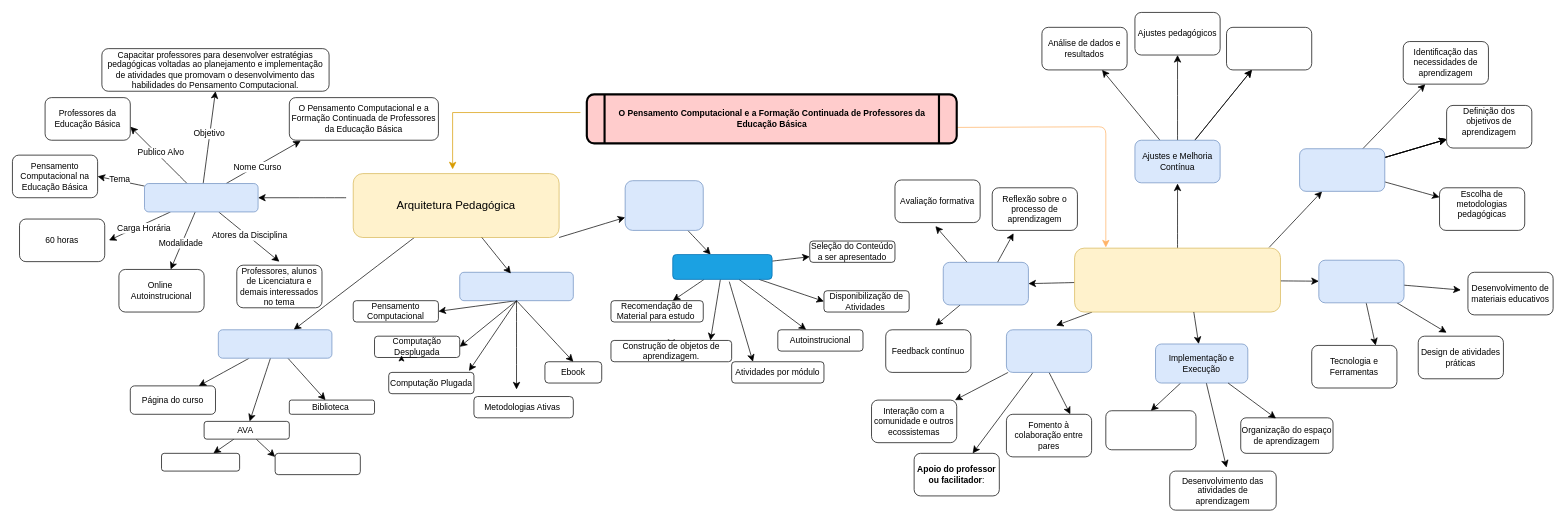
This 1566x523 diagram has some shape labels left out. Each missing label, with the box of its shape:
Aspectos Metodologicos: (624, 180, 703, 230)
Aspectos Organizacionais: (144, 183, 258, 212)
Aspectos Tecnológicos: (218, 329, 332, 358)
Atualização e inovação:: (1226, 27, 1312, 70)
Avaliação e Feedback: (943, 262, 1028, 305)
Conteúdo: (459, 272, 573, 301)
Criação de Conteúdo e Recursos: (1318, 260, 1404, 303)
Ecossistema de Aprendizagem: (1074, 247, 1280, 312)
Engajamento contínuo dos participantes:: (1105, 410, 1196, 450)
Fórum: (161, 453, 240, 471)
Interação e Colaboração: (1006, 329, 1092, 372)
Método: (672, 254, 772, 279)
Planejamento e Design: (1299, 148, 1385, 191)
Webfólio:: (274, 453, 360, 475)
